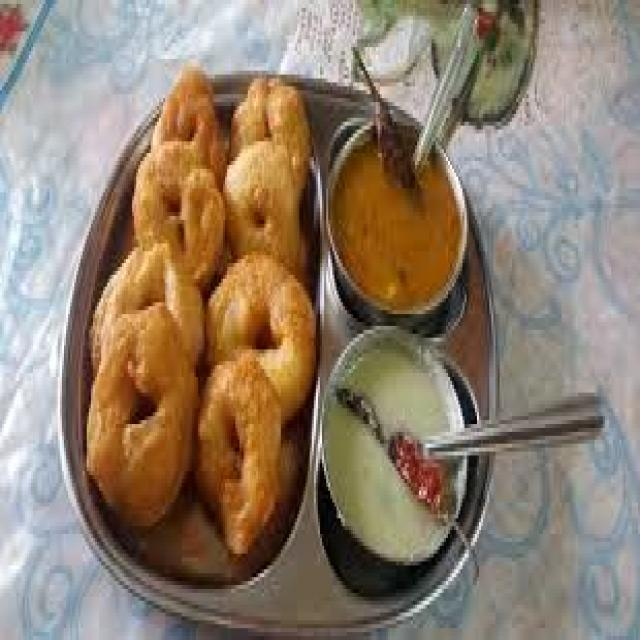MEDU VADA: (88, 310, 196, 531), (196, 359, 288, 559), (208, 256, 316, 420), (87, 235, 203, 376), (133, 139, 223, 283), (230, 73, 311, 191), (224, 142, 300, 263), (156, 74, 220, 181)
